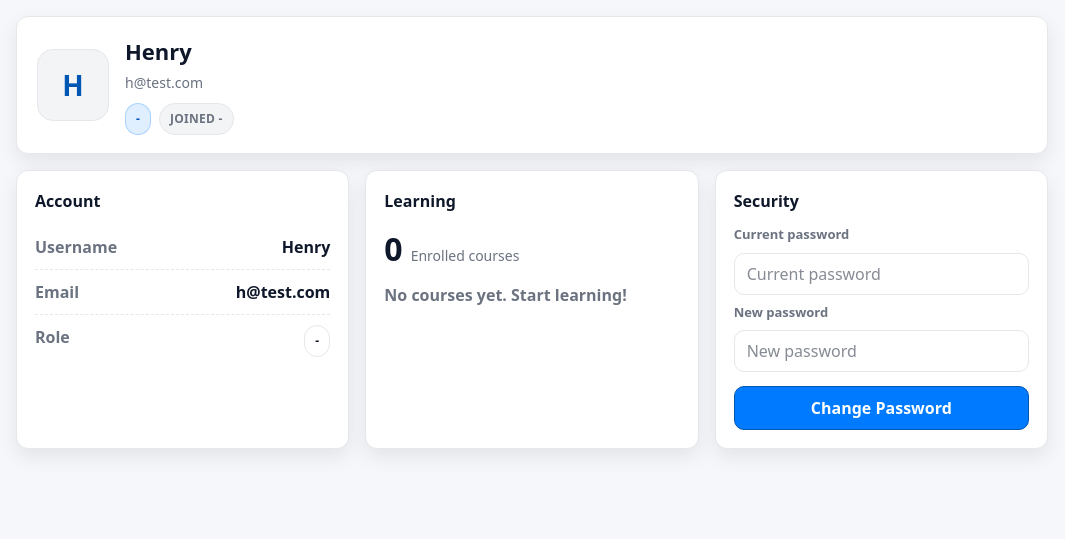
ProfilePage (more coverage) › shows error when changePassword fails
The image size is (1065, 539).
Type "old" into the password field with placeholder "Current password" at {"x": 881, "y": 274}, box 734,252 -> 1029,294
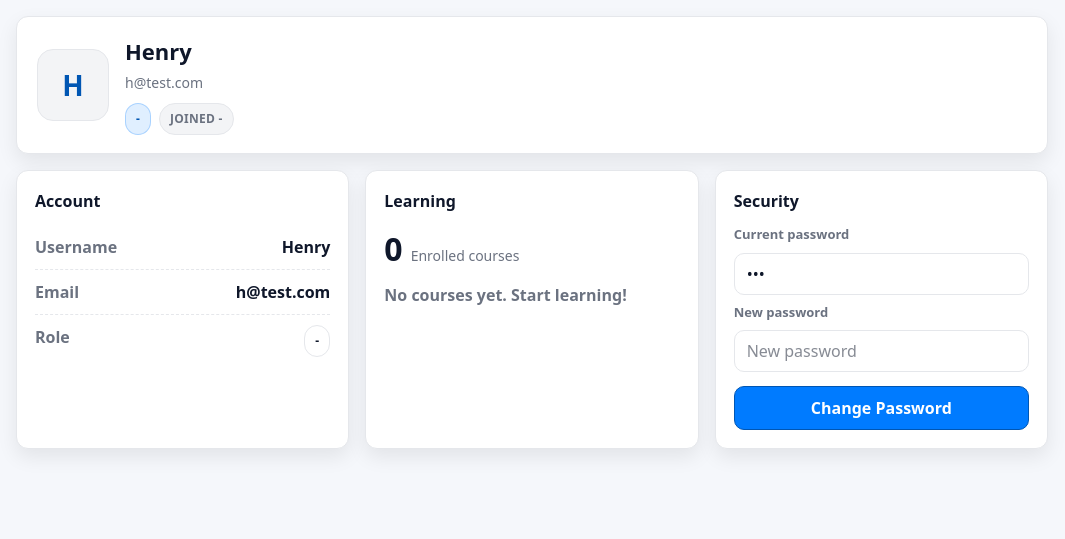
Type "new" into the password field with placeholder "New password" at {"x": 881, "y": 351}, box 734,330 -> 1029,372
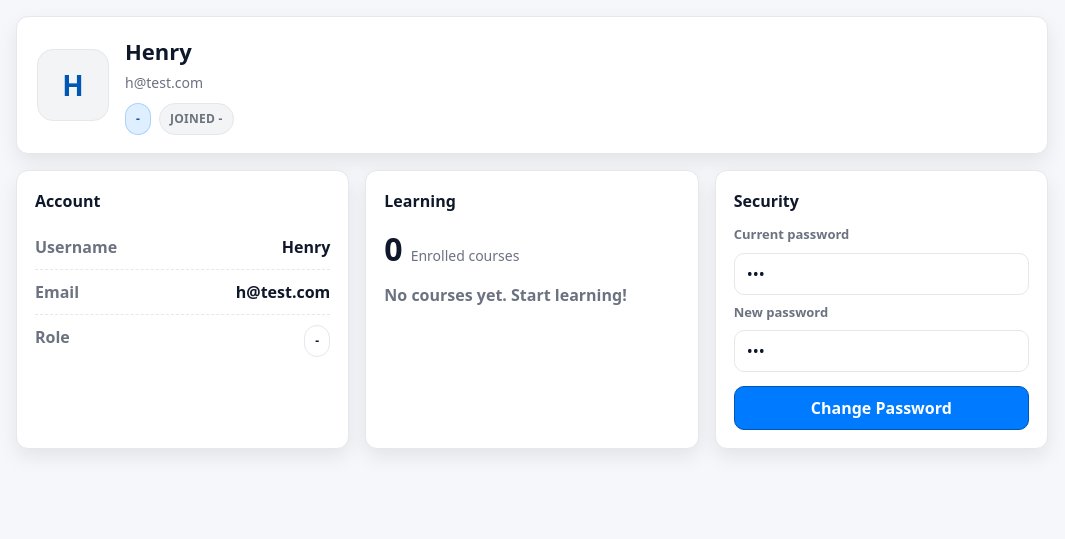
Click the button "Change Password" at {"x": 881, "y": 408}, box 734,386 -> 1029,430
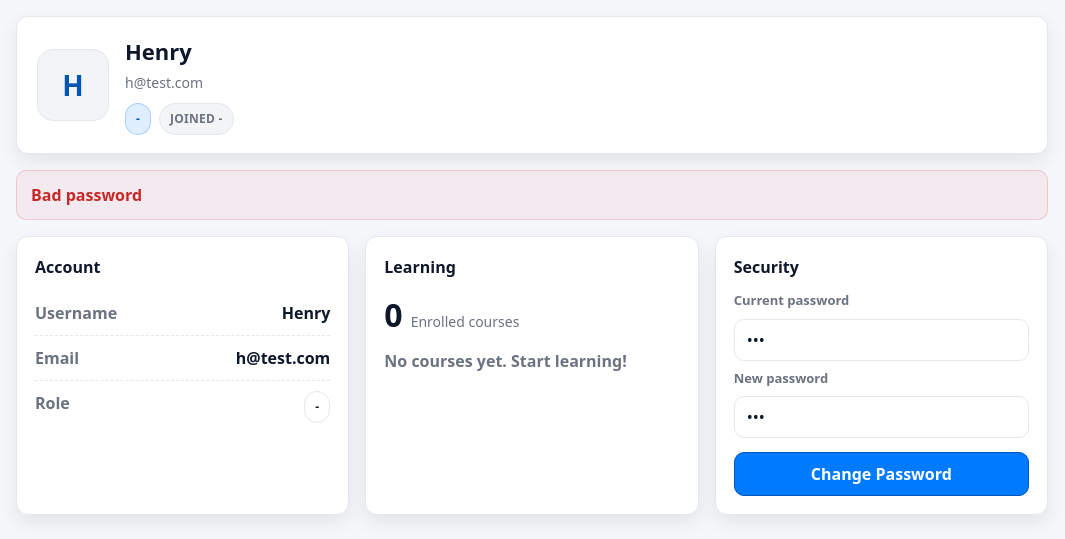
Expected: the text "Bad password" is shown, 16,170 -> 1048,220
